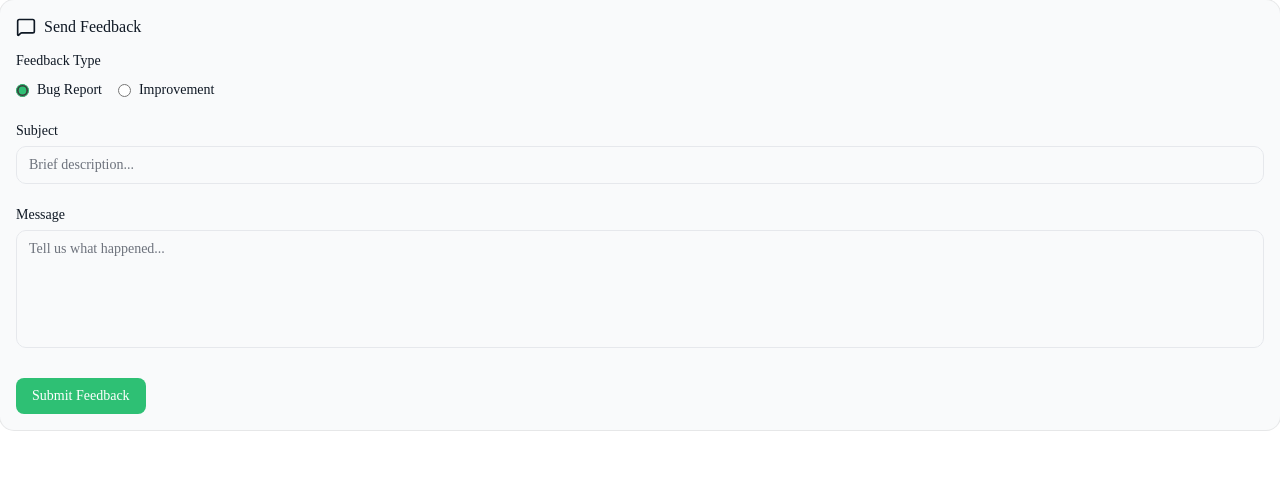
Test case: FeedbackSection › shows validation errors for empty fields on submit
Click the button "Submit Feedback" at [81, 396], box [16,378,146,414]
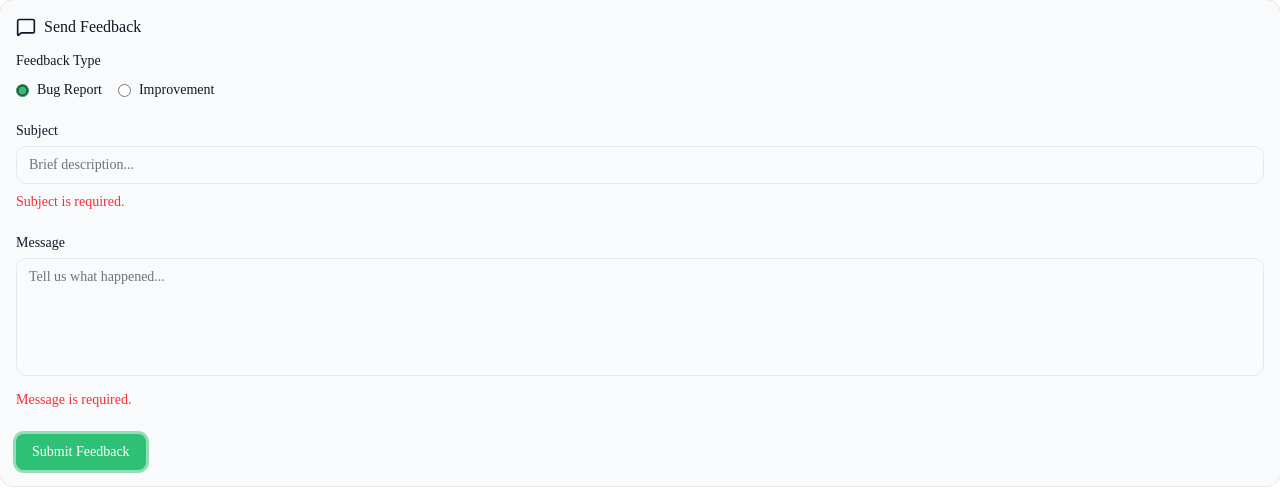
Now the text "Subject is required." is shown, box [16,194,124,209]
Now the text "Message is required." is shown, box [16,392,132,407]
